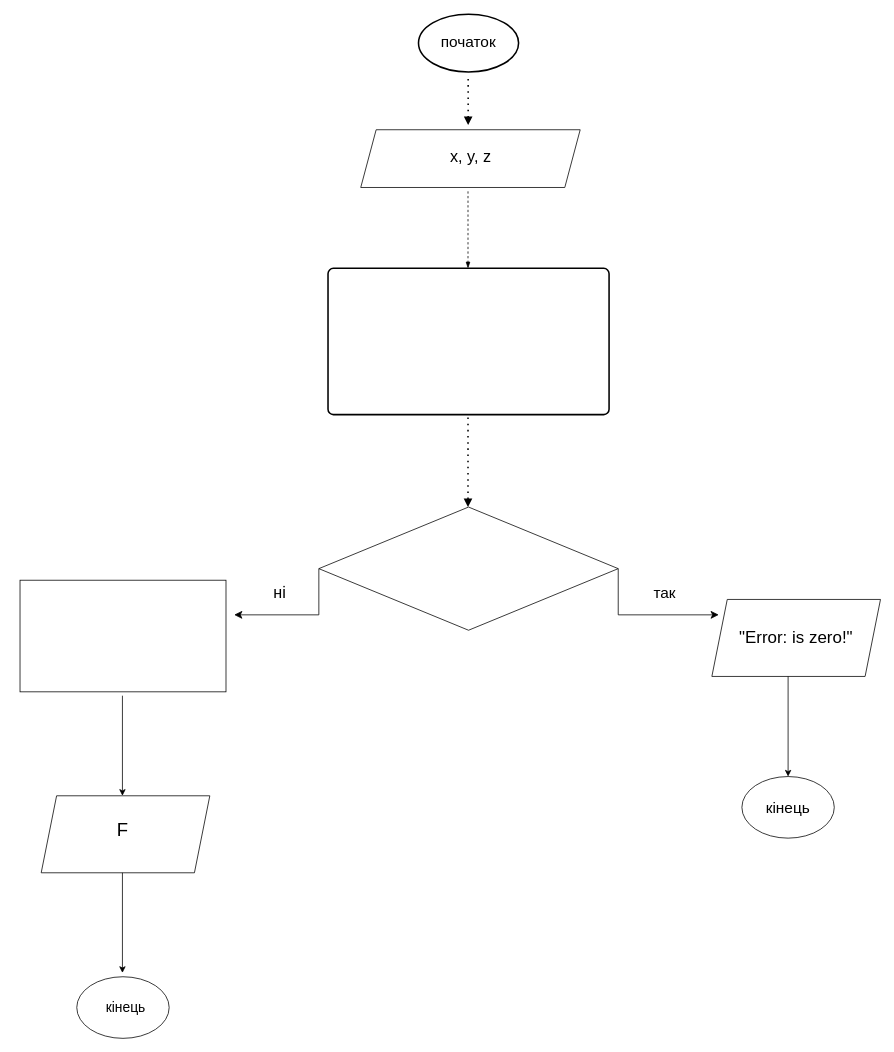
The diagram is 894 pixels wide and 1052 high, and some of its shapes have lost their labels. The centre of each missing label's shape, as x and y in pixels:
"abs(k + cos(2 * pow(z, 3))) < 1e-9" goes at point (468, 568).
"F = g / (k + cos(2 * pow(z, 3)))" goes at point (122, 635).
"g = (x < (y - x)) ? x : (y - x) k = (y * z) > pow(x, 2) ? (y * z) : pow(x, 2 )" goes at point (468, 341).
